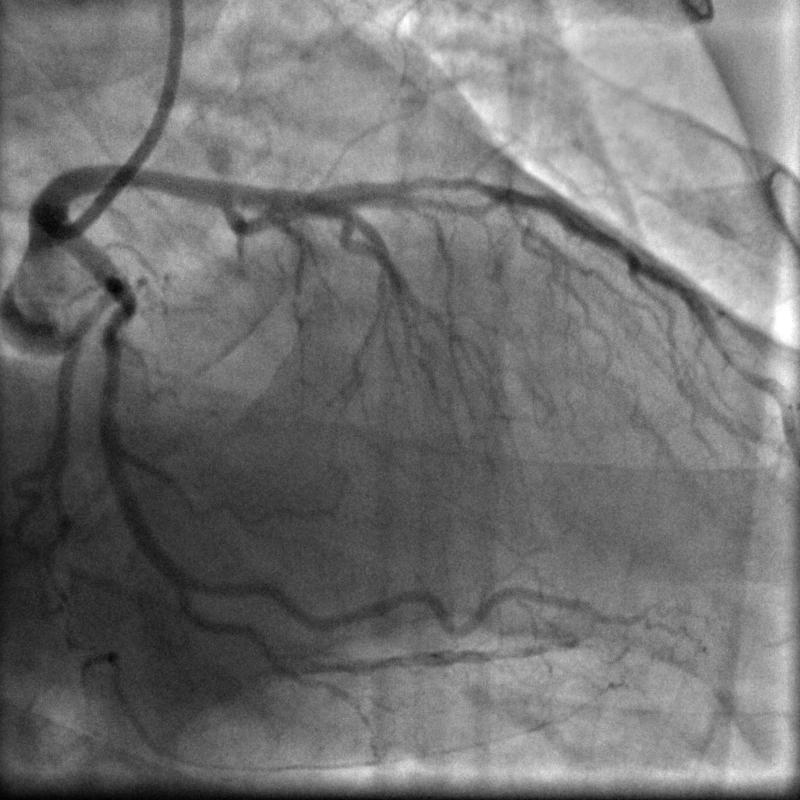Stenosis: (98, 285, 139, 350)
